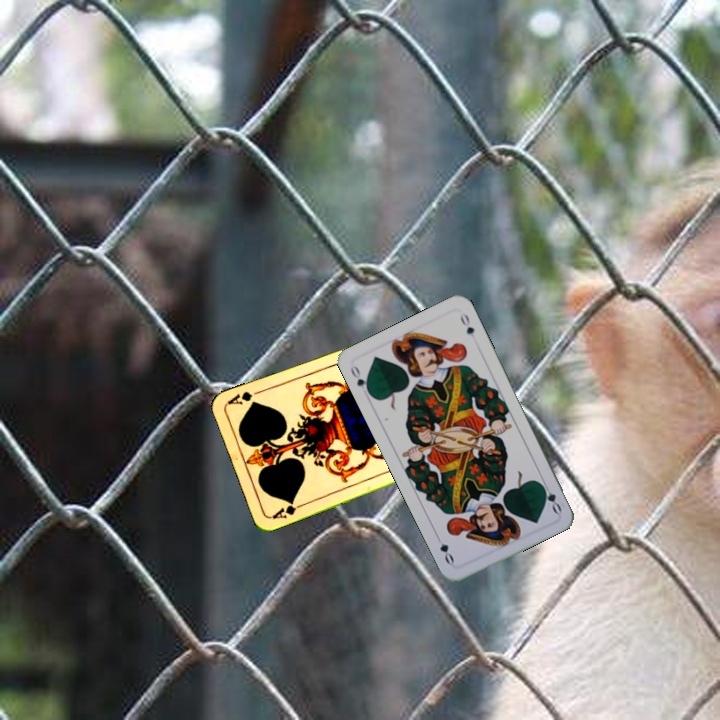GA: (268, 497, 306, 522)
GO: (536, 477, 564, 516), (346, 361, 373, 398)
